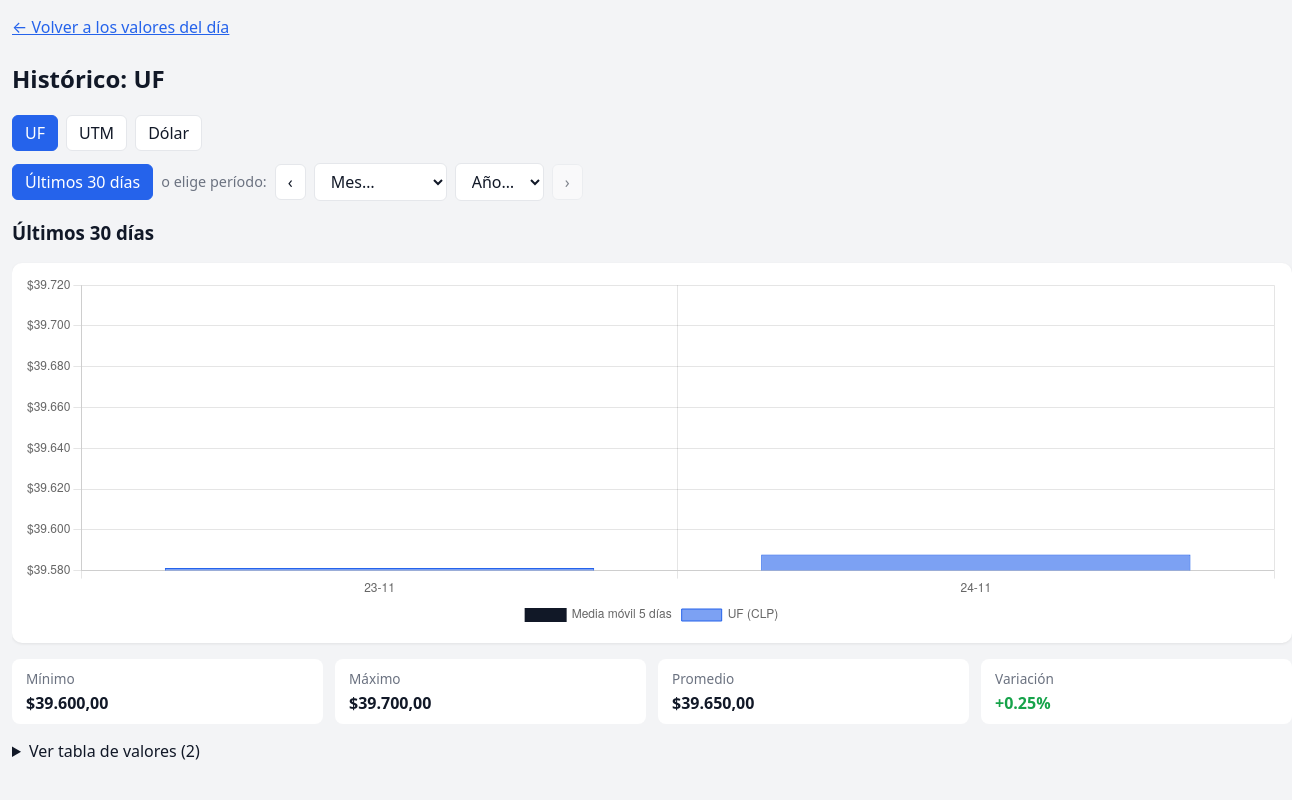
Test case: HistoricoPage › para la UTM muestra el año completo
Click the tab "UTM" at (97, 133), box [66,115,127,151]
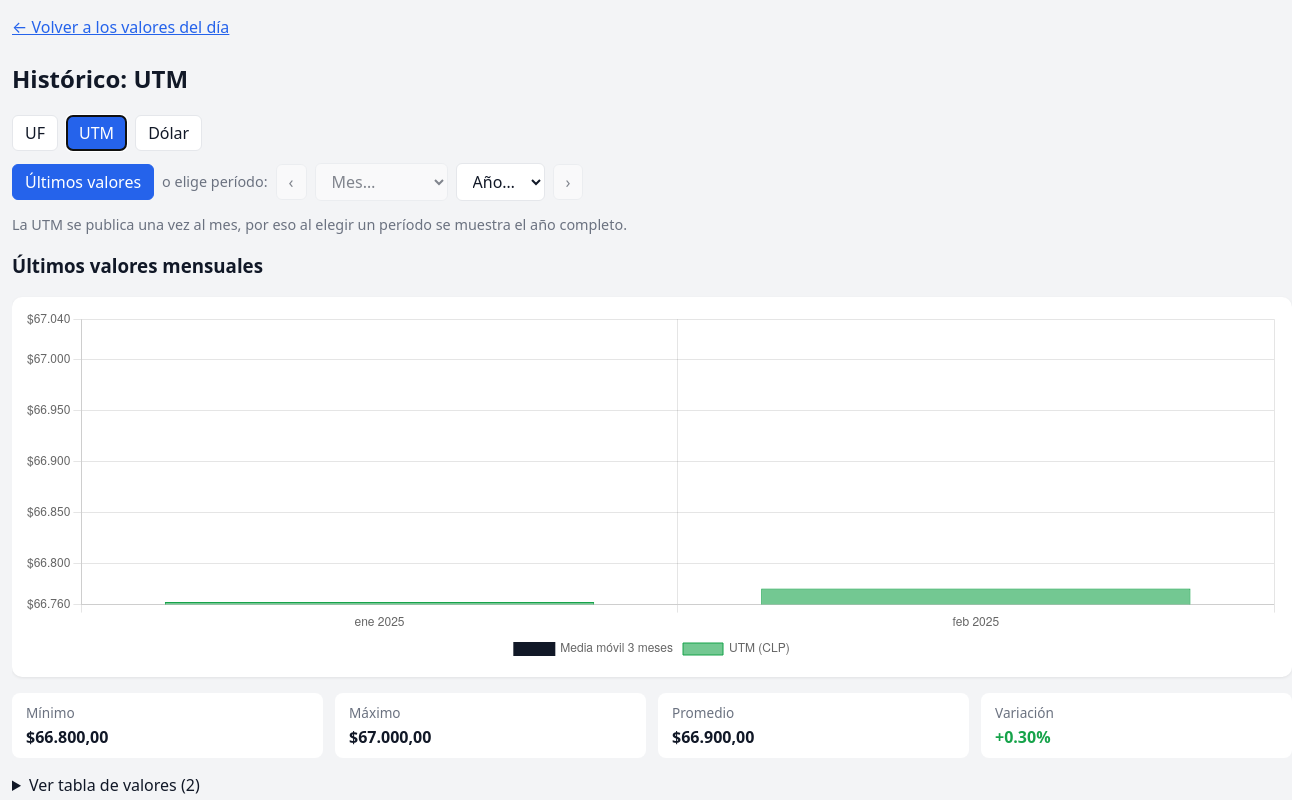
Check: the dropdown named "Mes" is disabled, box [314,163,448,201]
Select "2025" in the dropdown named "Año" at (500, 182), box [456,163,544,201]
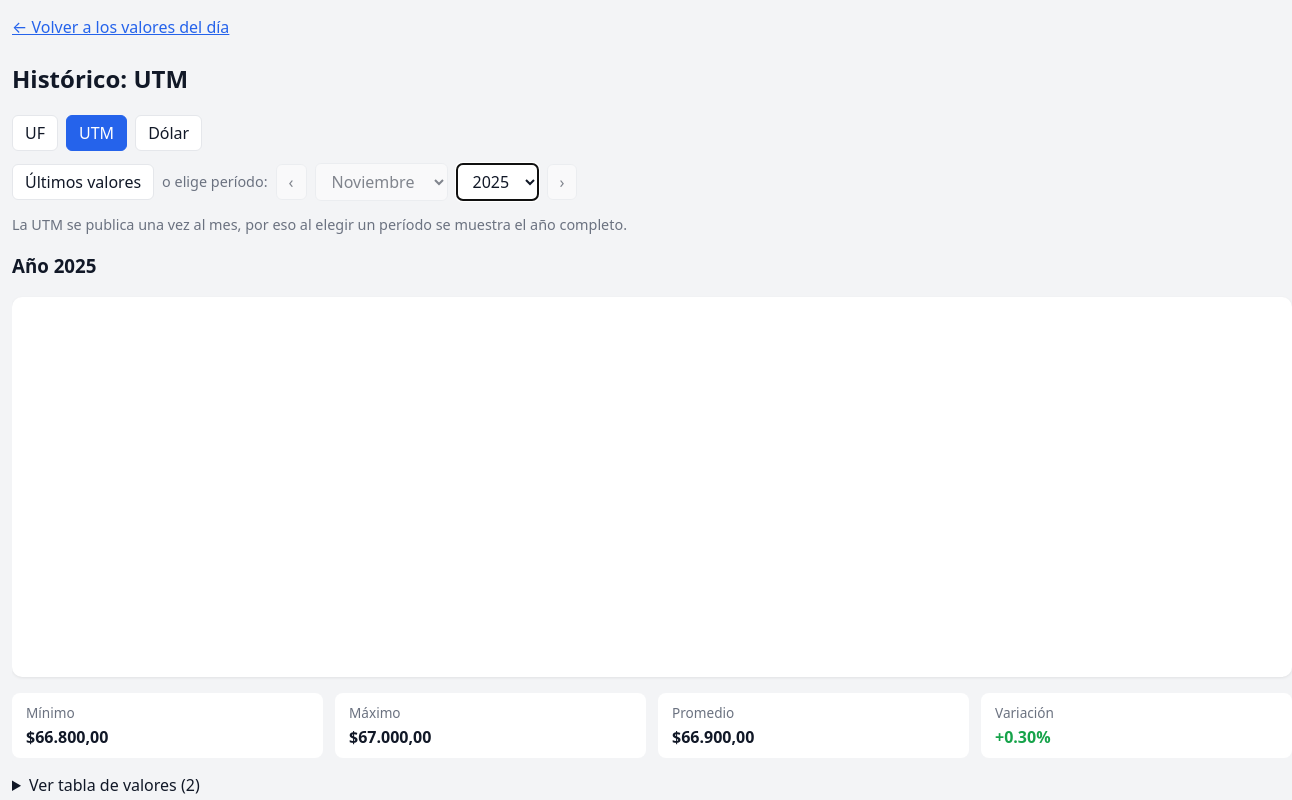
Check: the heading "Año 2025" is shown, box [12,253,96,278]
